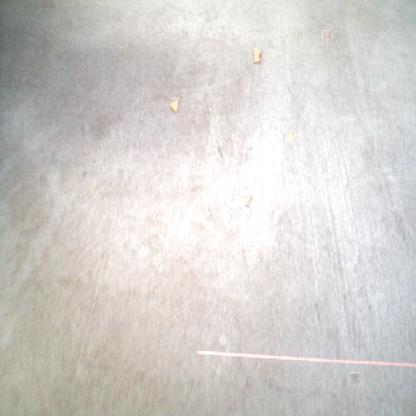dirty: (238, 193, 252, 207), (253, 48, 263, 64), (284, 132, 297, 144), (170, 98, 180, 113), (320, 32, 333, 43)
mark: (314, 302, 320, 326), (350, 373, 361, 383), (216, 144, 223, 157), (80, 170, 86, 178), (207, 212, 212, 221)
